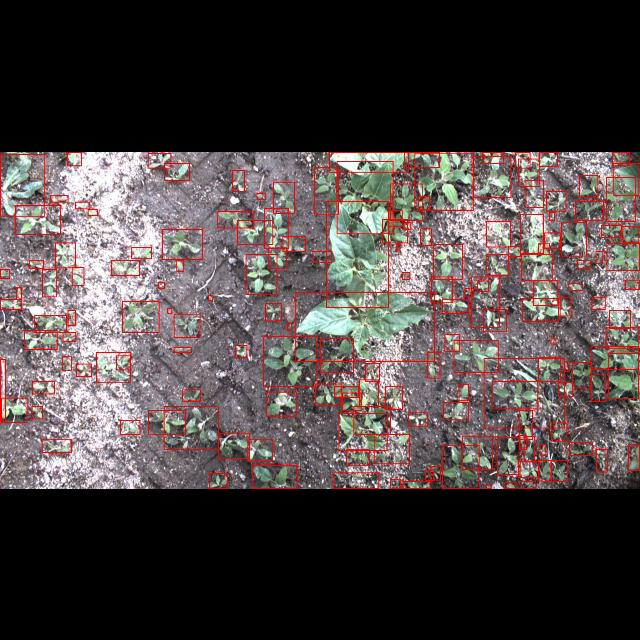crop: (296, 292, 434, 361), (326, 201, 388, 307), (337, 160, 393, 233), (339, 413, 387, 451), (329, 151, 408, 171), (614, 162, 638, 195)
weed: (484, 358, 564, 428), (415, 153, 473, 210), (0, 153, 46, 215), (263, 336, 317, 386), (164, 406, 218, 449), (442, 444, 480, 488), (474, 156, 511, 197), (470, 276, 500, 326), (454, 340, 498, 372), (608, 352, 638, 398), (606, 177, 636, 221), (15, 204, 60, 233), (492, 381, 538, 409), (122, 300, 160, 332), (390, 182, 422, 220), (246, 254, 276, 294), (162, 228, 202, 258), (314, 166, 338, 214), (321, 338, 354, 372), (433, 243, 463, 279), (374, 434, 410, 464), (591, 346, 639, 368), (264, 207, 290, 247), (96, 352, 130, 382), (462, 435, 492, 469), (252, 466, 298, 488), (354, 406, 390, 434), (148, 410, 186, 434), (520, 214, 544, 252), (607, 242, 639, 270), (496, 438, 520, 474), (237, 220, 273, 244), (562, 221, 586, 255), (522, 298, 558, 320), (522, 254, 552, 280), (218, 434, 250, 458), (333, 472, 379, 488), (266, 392, 296, 416), (24, 329, 58, 348), (274, 181, 294, 213), (606, 327, 638, 347), (486, 220, 510, 246), (1, 398, 27, 422), (382, 218, 408, 242), (532, 280, 558, 304), (518, 158, 540, 185), (35, 314, 67, 332), (218, 211, 254, 227), (174, 314, 200, 336), (315, 383, 341, 405), (575, 200, 603, 220), (538, 357, 560, 381), (55, 242, 75, 268), (432, 276, 452, 302), (359, 379, 379, 405), (572, 362, 592, 388), (404, 152, 440, 166), (526, 180, 544, 207), (484, 309, 506, 331), (248, 440, 272, 460), (164, 162, 190, 180), (487, 253, 508, 274), (444, 402, 468, 420), (590, 374, 606, 400), (519, 409, 533, 438), (546, 190, 566, 210), (609, 310, 631, 328), (580, 174, 598, 196), (112, 260, 140, 274), (0, 359, 6, 421), (42, 270, 56, 296), (442, 299, 468, 313), (42, 440, 72, 452), (268, 248, 286, 268), (342, 392, 362, 410), (148, 152, 170, 168), (386, 386, 402, 408), (551, 461, 567, 482), (282, 236, 306, 250), (346, 450, 369, 464), (518, 461, 538, 477), (428, 351, 440, 377), (628, 444, 640, 470), (570, 442, 592, 456), (596, 448, 608, 472), (32, 381, 54, 394), (120, 420, 140, 434), (408, 412, 428, 426), (365, 362, 379, 382), (538, 461, 552, 481), (444, 334, 460, 351), (334, 387, 358, 398), (524, 436, 534, 462), (265, 304, 281, 320), (544, 232, 560, 248), (623, 226, 639, 242), (209, 474, 227, 488), (552, 423, 566, 441), (539, 152, 557, 166), (612, 151, 630, 165), (131, 246, 151, 258), (232, 170, 244, 190), (601, 224, 621, 236), (313, 250, 332, 262), (388, 210, 402, 226), (516, 151, 530, 167), (558, 382, 574, 396), (72, 267, 84, 285), (1, 299, 22, 309), (482, 152, 503, 162), (67, 151, 81, 165), (116, 355, 130, 369), (76, 363, 92, 375), (421, 228, 432, 245), (182, 390, 200, 400), (560, 297, 570, 315), (403, 482, 431, 488), (459, 384, 469, 400), (236, 344, 247, 358), (592, 297, 604, 309), (62, 356, 72, 370), (62, 331, 76, 341), (430, 466, 440, 480), (625, 279, 639, 289), (418, 196, 429, 208), (28, 260, 44, 268), (74, 200, 90, 208), (32, 406, 42, 418), (478, 280, 488, 292), (508, 246, 520, 256), (538, 243, 550, 253), (568, 282, 582, 290), (174, 346, 192, 352), (50, 195, 68, 201), (390, 479, 400, 489), (0, 268, 10, 278), (520, 482, 536, 488), (578, 259, 590, 267), (68, 310, 74, 324), (520, 435, 526, 449), (425, 470, 433, 480), (504, 482, 516, 488), (16, 287, 22, 299), (596, 251, 602, 263), (465, 288, 473, 296), (177, 260, 183, 270), (540, 444, 544, 456), (402, 272, 410, 278), (88, 209, 96, 215), (257, 192, 265, 198), (404, 222, 411, 228), (564, 361, 568, 371), (550, 337, 556, 343), (158, 281, 164, 287), (287, 322, 291, 330), (396, 244, 400, 252), (550, 212, 554, 220), (486, 484, 492, 488), (209, 294, 213, 300), (168, 308, 172, 312)
